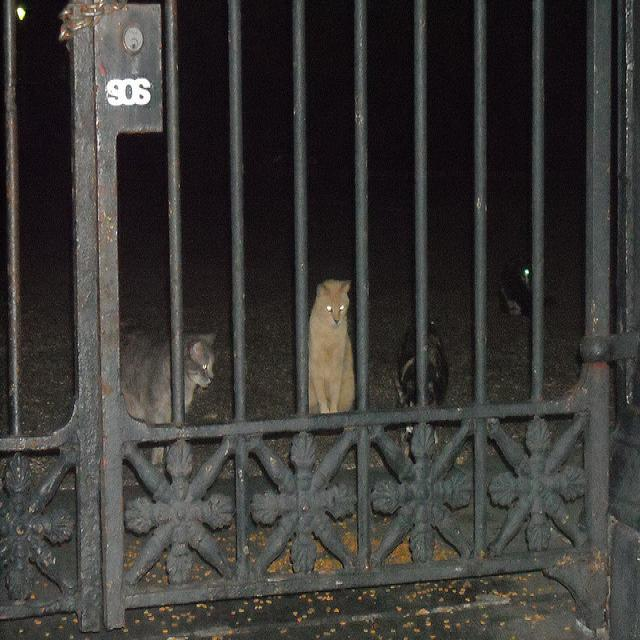Cat: (82, 314, 242, 448), (300, 217, 362, 438), (395, 294, 454, 448), (512, 244, 552, 359)
